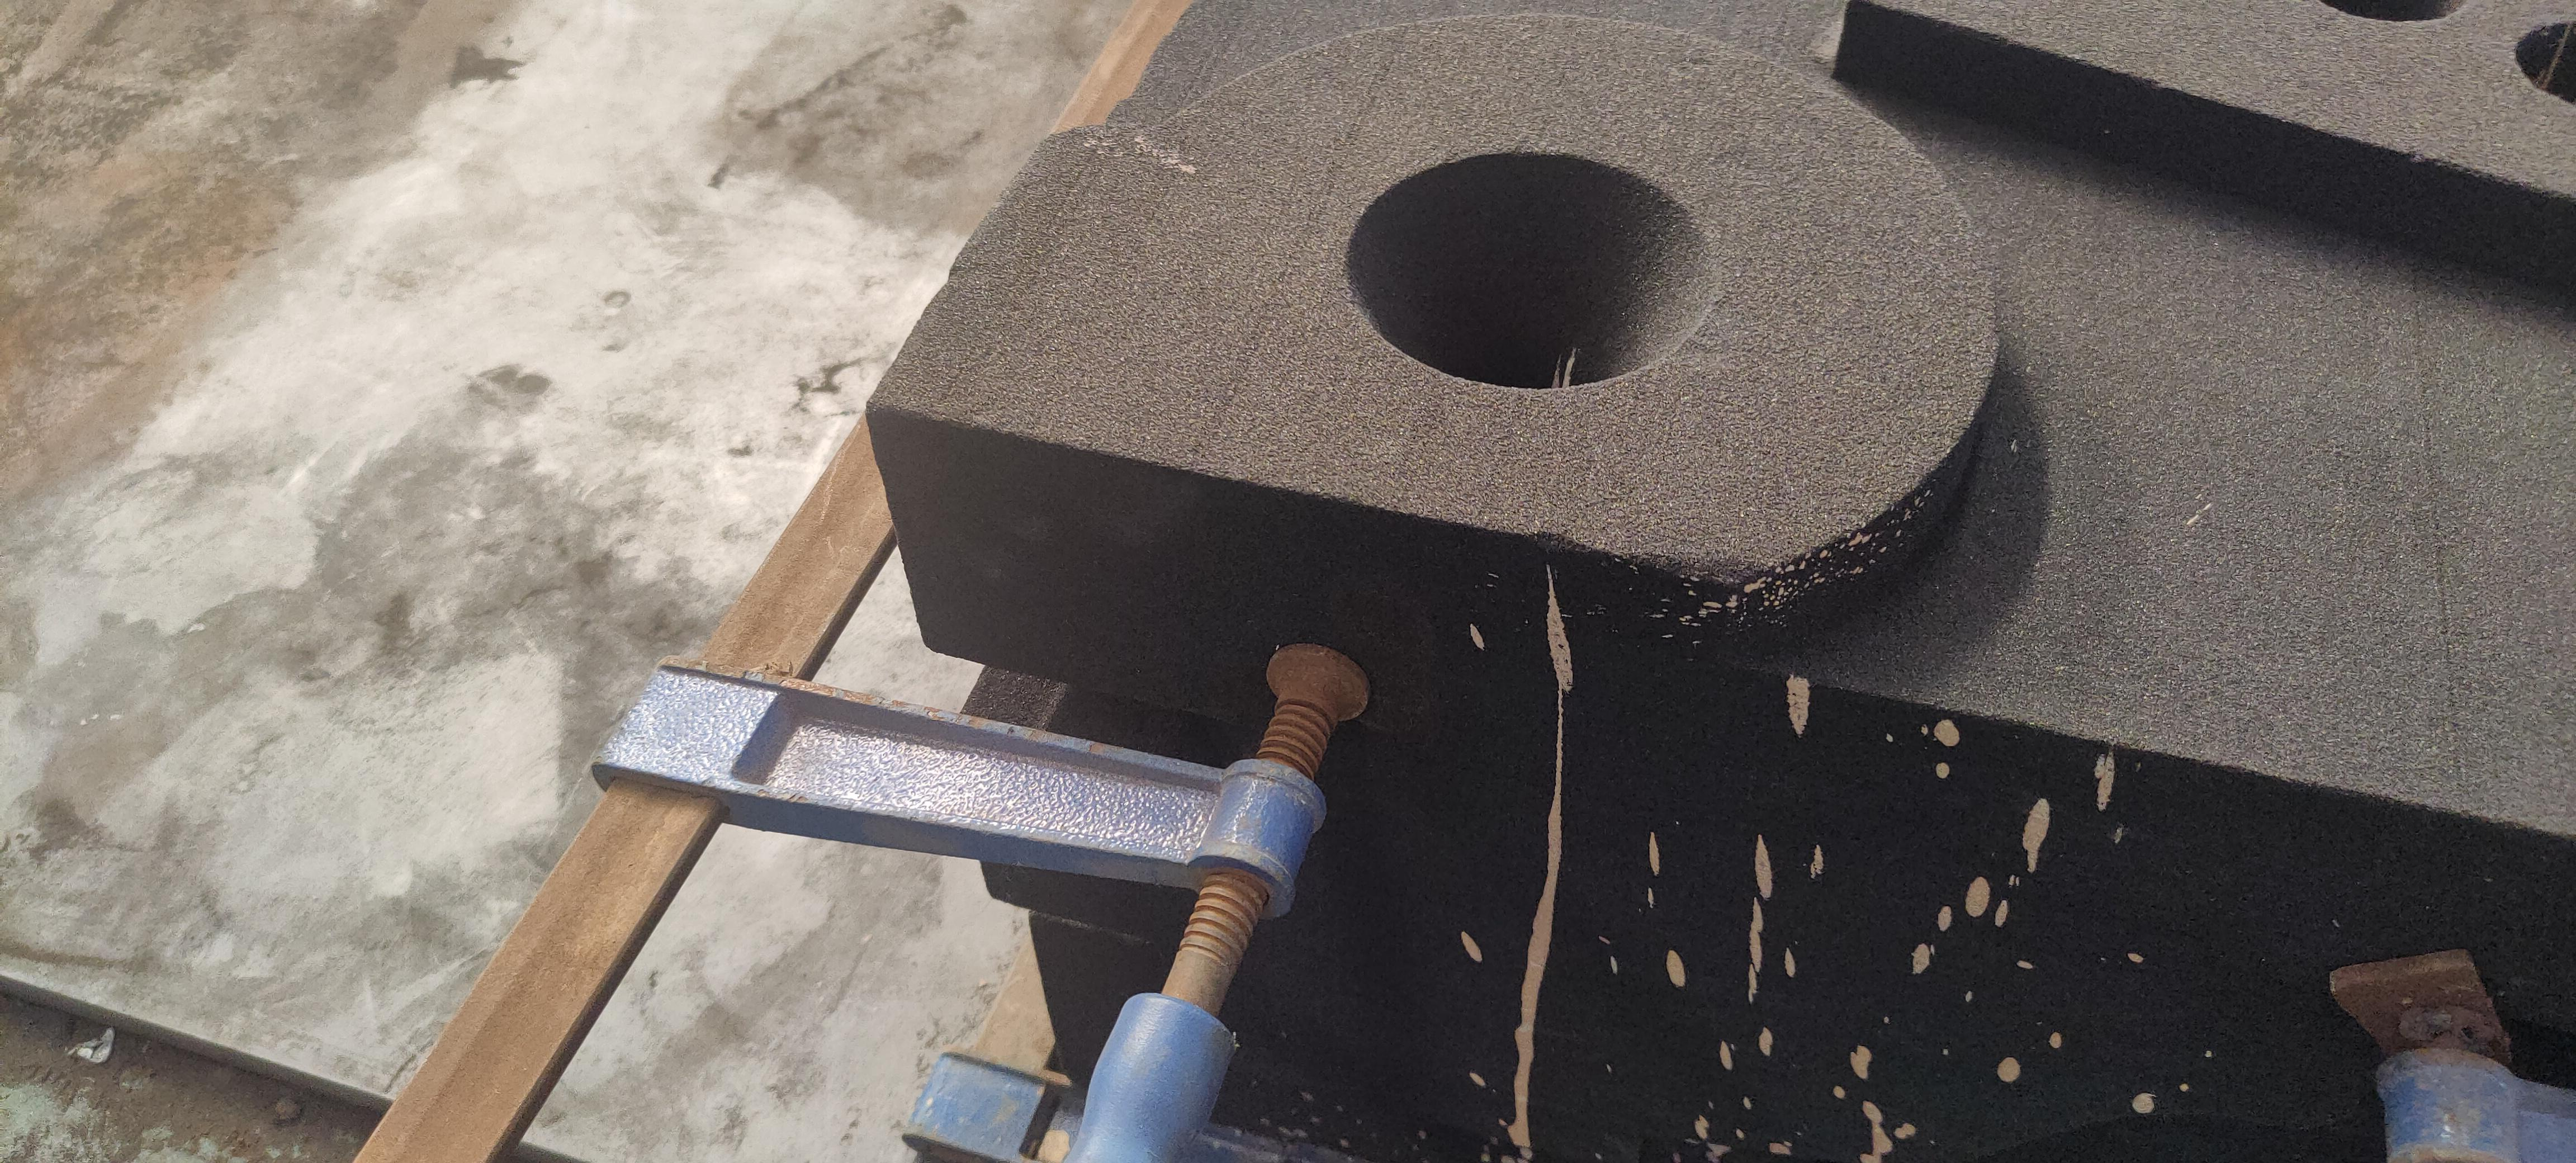pouring hole: (1342, 148, 1715, 389)
